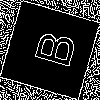B: (24, 25, 78, 70)
